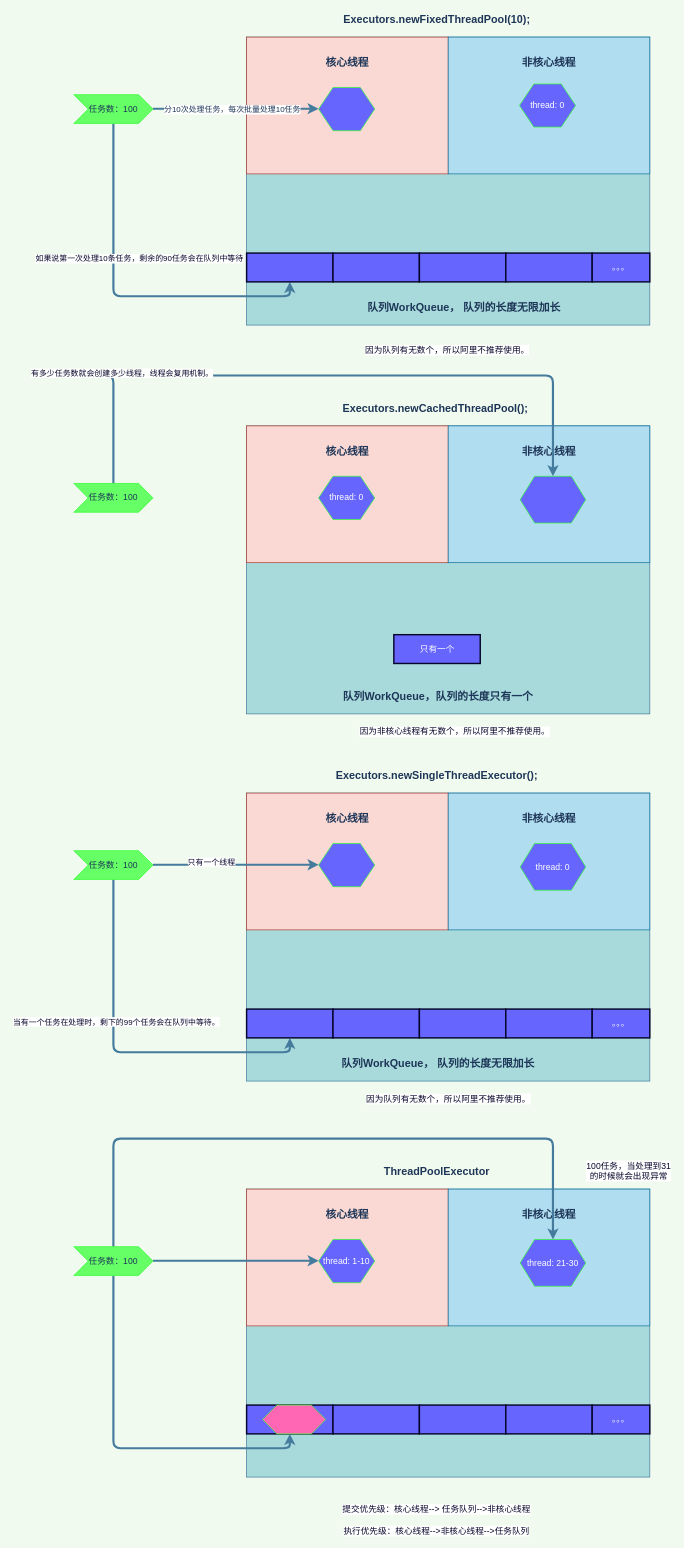
The diagram is 684 pixels wide and 1548 high, and some of its shapes have lost their labels. Each missing label, with the centre of its shape:
"thread: 1" goes at (346,865).
"thread: 10" goes at (346,109).
"thread: 11-20" goes at (294,1419).
"thread: 无数个" goes at (552,499).
